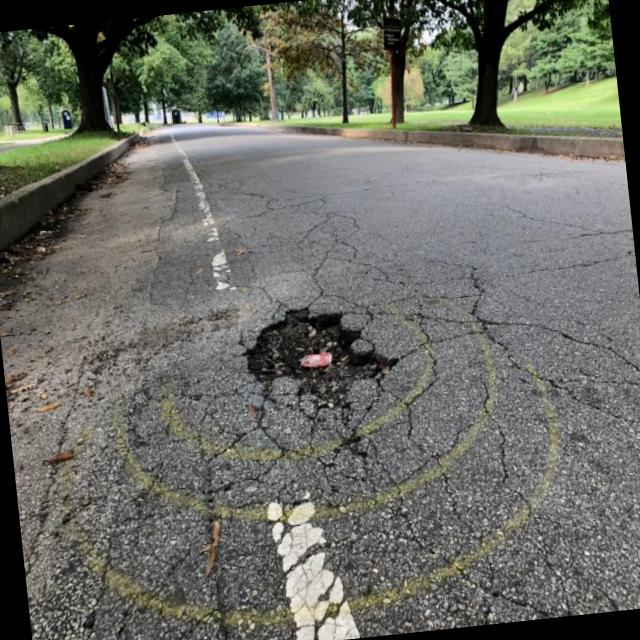bad-road: (239, 295, 404, 421)
